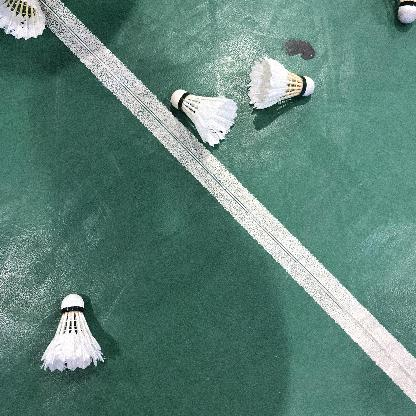ball_single: (41, 294, 104, 372), (171, 89, 238, 147), (247, 56, 314, 109), (0, 0, 46, 40), (398, 0, 416, 24)
